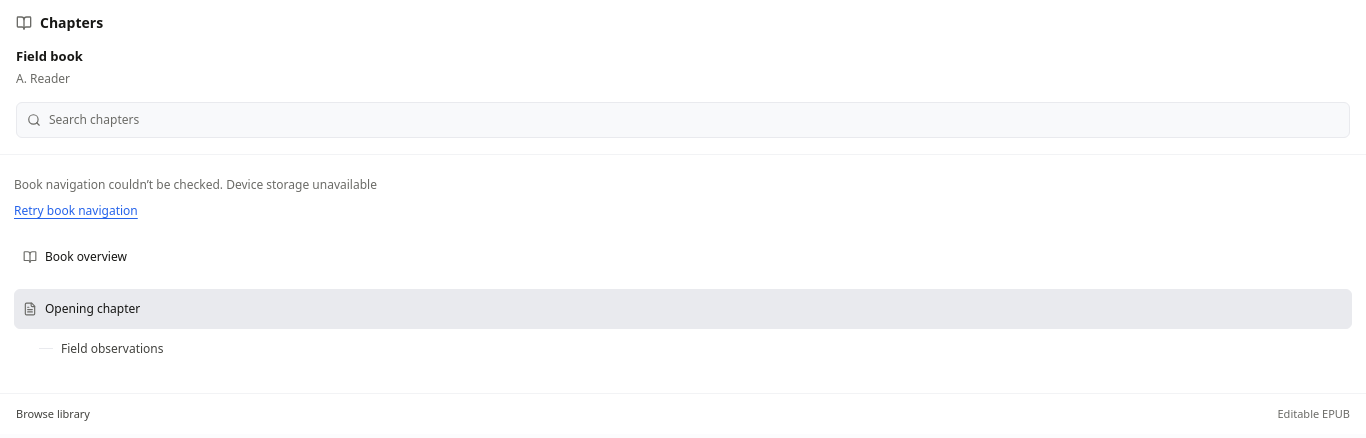
Test: article document navigation › retains known chapter links on lookup failure and retries metadata without loading assets
Check: the message shows "Book navigation couldn’t be checked", box [14,176,226,193]
Check: the link "Opening chapter" is shown, box [14,289,1352,329]
Click the button "Retry book navigation" at (76, 211), box [14,201,138,221]
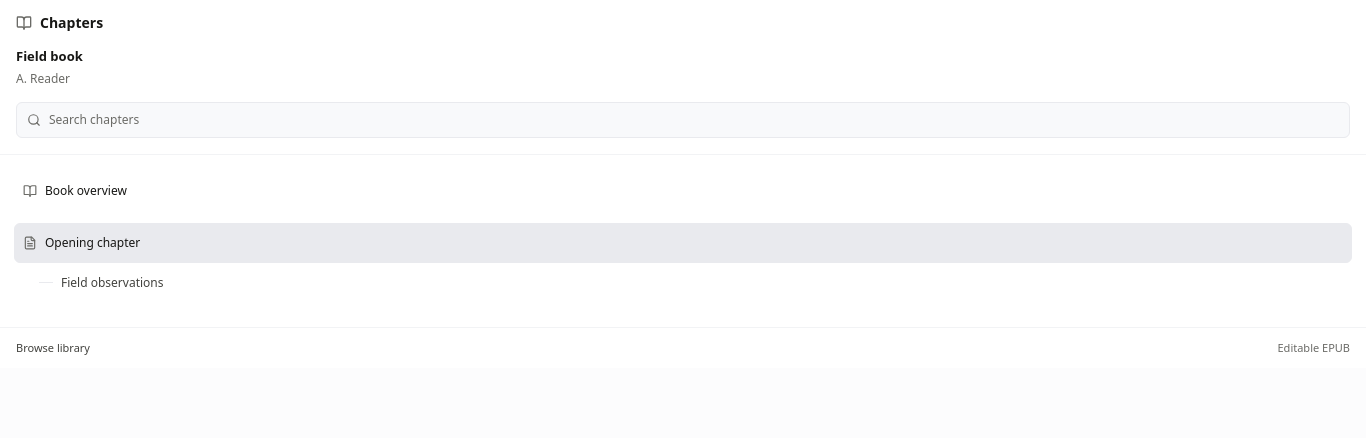
Check: the message is gone
